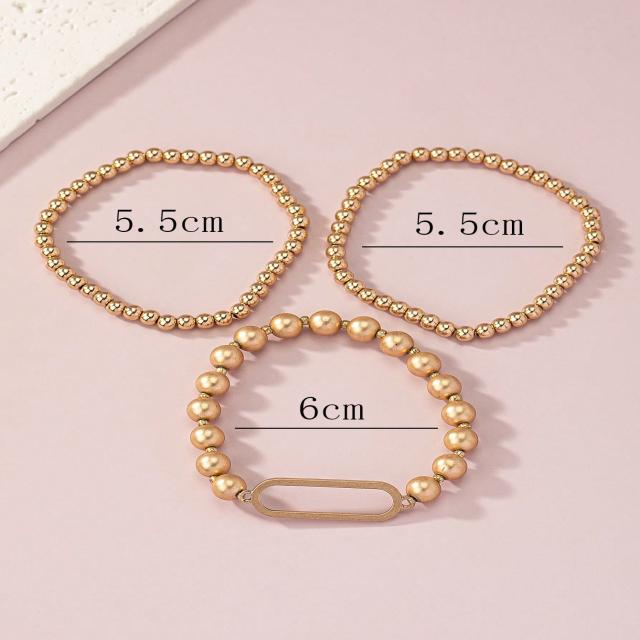bracelet: (0, 88, 328, 338), (301, 105, 640, 346), (179, 303, 526, 537)
